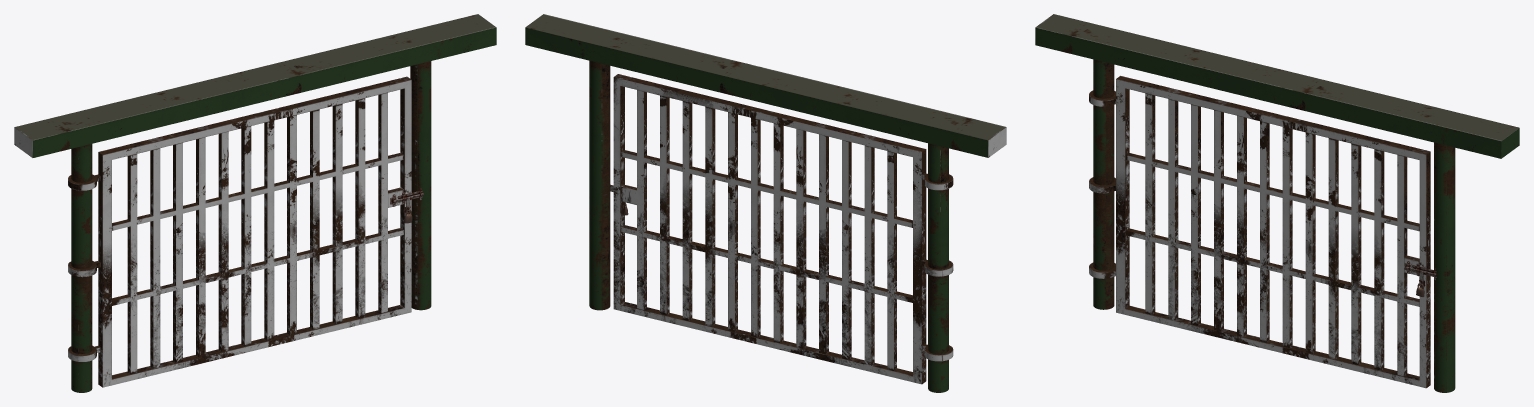
The picture shows the model from 3 angles, left to right: view 1: azimuth 30°, elevation 25°; view 2: azimuth 150°, elevation 25°; view 3: azimuth 330°, elevation 25°; orthographic projection.
Visible parts, largest first — view 1: rejassinuvs; view 2: rejassinuvs; view 3: rejassinuvs.
Boxes of the visible parts, x1,y1,x2,y2 form: rejassinuvs: (14, 14, 496, 392); rejassinuvs: (525, 14, 1006, 392); rejassinuvs: (1035, 14, 1519, 392).
Size of the model in its own units: 407 by 226 by 28.
